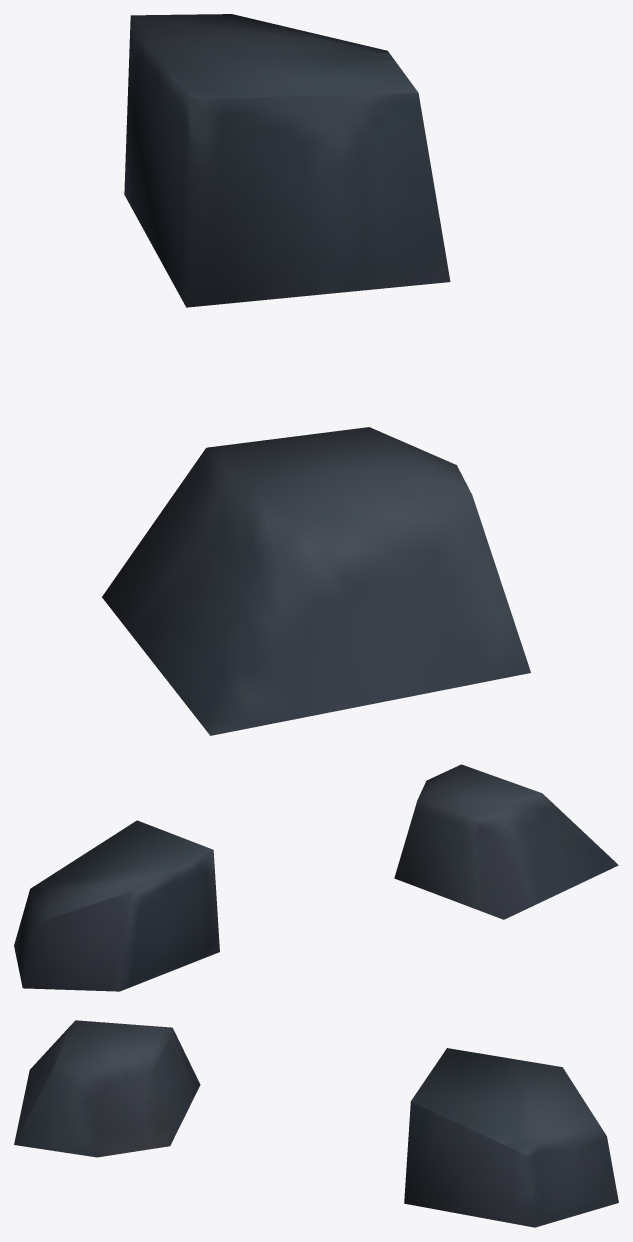
The model's file is Area_02_20.fbx.
3 views of the same model, one above another, from view 1: azimuth 30°, elevation 25°; view 2: azimuth 150°, elevation 25°; view 3: azimuth 270°, elevation 25° (orthographic). The views are drawn at different scales.
Visible parts, largest first — view 1: Area_02_20; view 2: Area_02_20; view 3: Area_02_20.
Boxes of the visible parts, x1,y1,x2,y2 form: Area_02_20: (102, 14, 530, 735); Area_02_20: (14, 764, 618, 991); Area_02_20: (14, 1020, 618, 1227).
Bounding box in the file's own units: 125 × 39.8 × 183.
